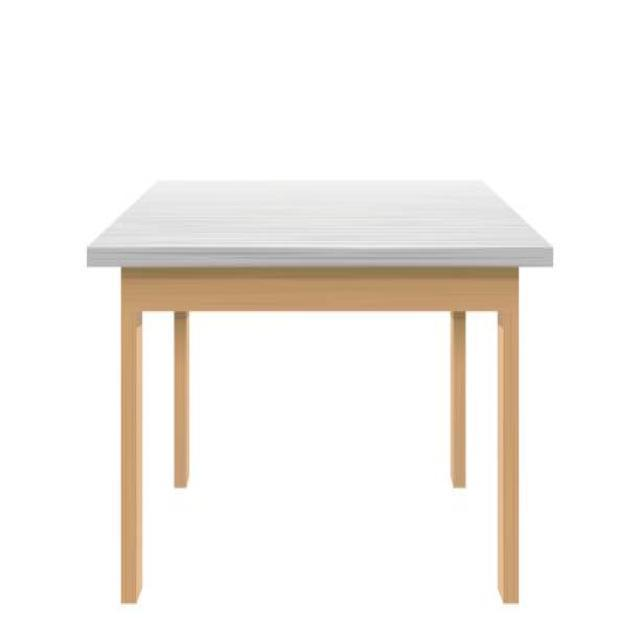table: (86, 176, 554, 606)
